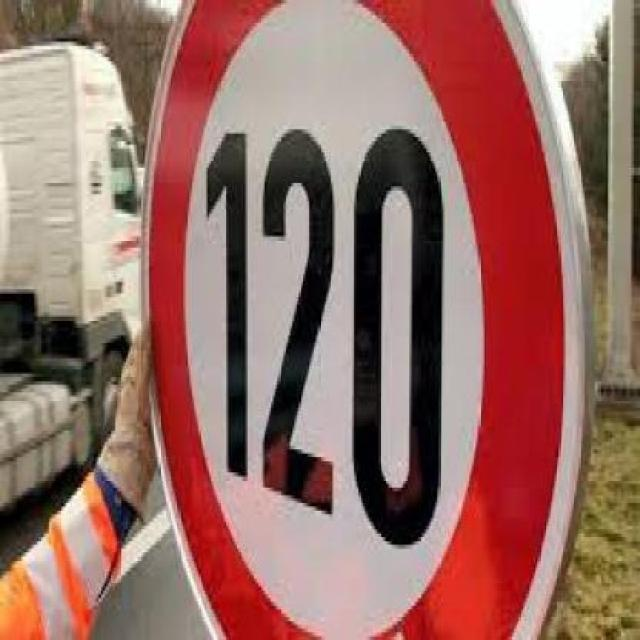forb_speed_over_120: (146, 1, 572, 640)
